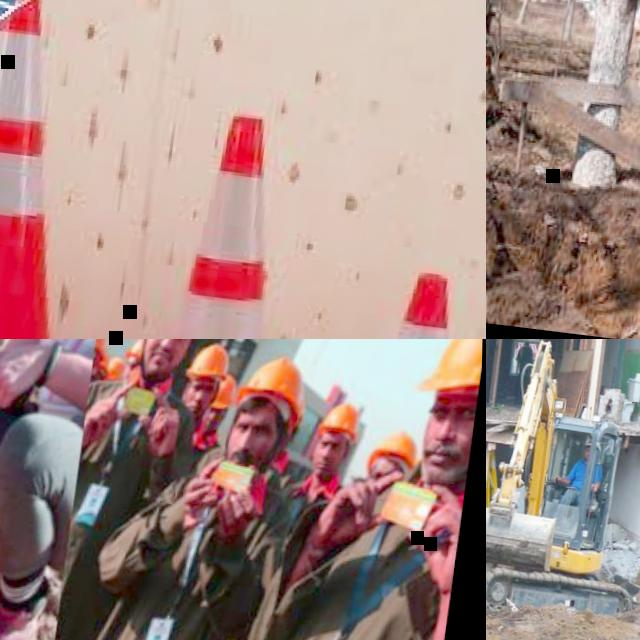Hardhat: (236, 350, 312, 417), (416, 339, 483, 395), (364, 429, 422, 471), (181, 340, 232, 380), (314, 400, 365, 439), (210, 377, 241, 412), (101, 354, 129, 380), (127, 339, 142, 364), (92, 339, 113, 354)
NO-Hardhat: (584, 437, 596, 448)
NO-Mask: (419, 437, 472, 482), (143, 344, 185, 380), (228, 443, 272, 473), (312, 453, 342, 477), (184, 398, 208, 418), (202, 420, 220, 435), (585, 455, 590, 462)
NO-Safety Vest: (294, 475, 463, 640), (112, 472, 269, 640), (66, 374, 176, 582), (16, 339, 104, 415), (275, 478, 338, 564), (189, 431, 220, 472), (573, 459, 600, 491)
Person: (239, 339, 483, 640), (90, 339, 305, 640), (58, 339, 197, 640), (0, 339, 107, 640), (261, 396, 364, 559), (548, 434, 607, 528), (184, 377, 237, 473), (180, 340, 228, 433), (355, 422, 423, 486), (272, 398, 309, 478), (92, 339, 119, 391), (512, 339, 535, 390), (106, 350, 129, 388)
Safety Cone: (93, 87, 361, 339), (0, 0, 156, 339), (322, 246, 486, 339)
vehicle: (486, 339, 640, 631)
